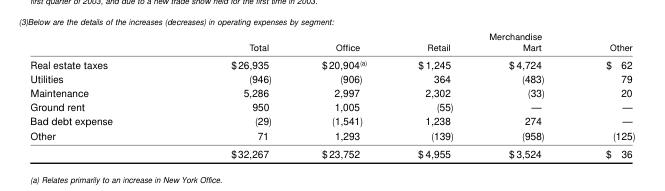table: (29, 29, 634, 159)
table column: (29, 29, 171, 159), (171, 29, 295, 159), (470, 29, 574, 159), (295, 29, 391, 159), (391, 29, 470, 159), (574, 29, 634, 159)
table column header: (29, 29, 634, 54)
table row: (29, 29, 634, 54), (29, 54, 634, 70), (29, 127, 634, 143), (29, 143, 634, 159), (29, 84, 634, 99), (29, 70, 634, 84), (29, 99, 634, 113), (29, 113, 634, 127)
